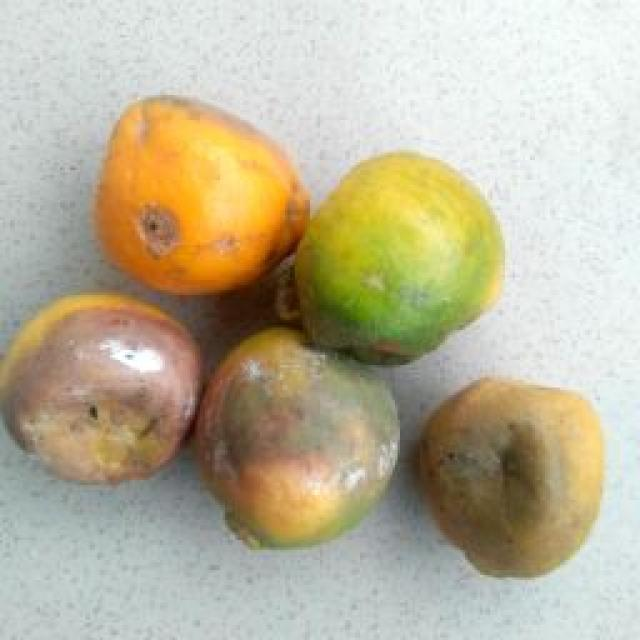Bad_Orange: (194, 328, 399, 547), (0, 294, 199, 482), (422, 379, 599, 576)
